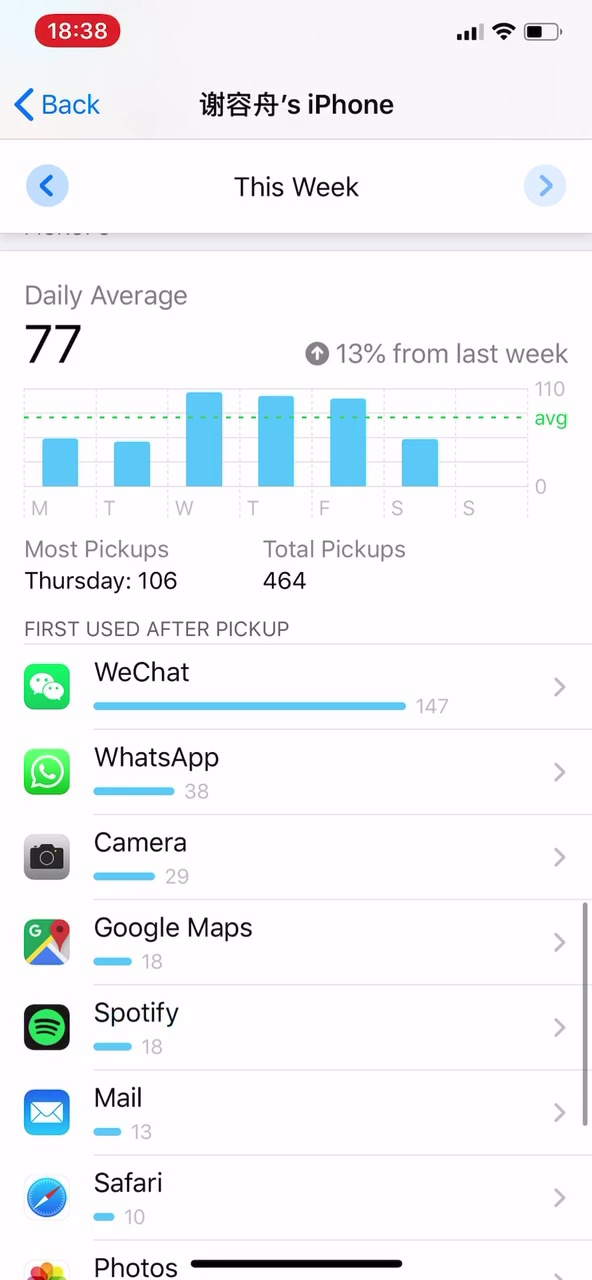pick_app: (12, 656, 472, 728), (15, 897, 278, 983), (15, 814, 219, 896), (11, 740, 241, 811), (17, 989, 204, 1067), (15, 1075, 186, 1153), (15, 1163, 188, 1238)
pick_over: (9, 530, 453, 602)
week: (227, 167, 372, 209)
